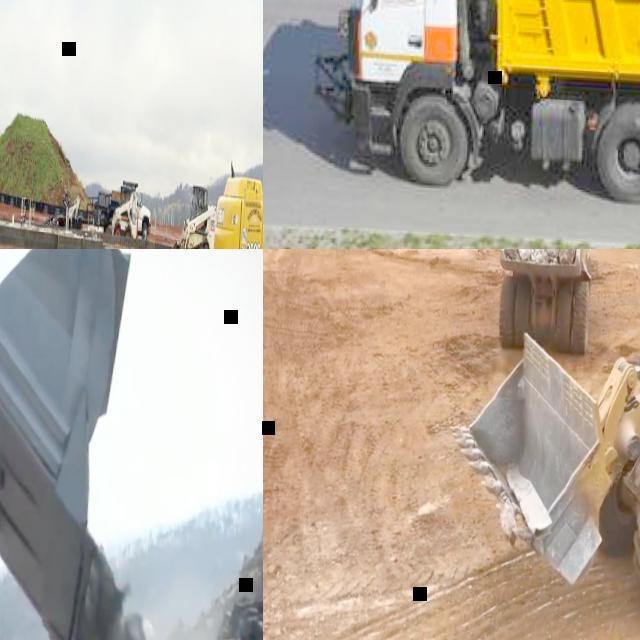machinery: (457, 249, 640, 640), (336, 0, 640, 217), (0, 249, 136, 640), (207, 0, 263, 249), (488, 249, 603, 365), (85, 179, 154, 236), (168, 183, 218, 249), (110, 190, 140, 238)
